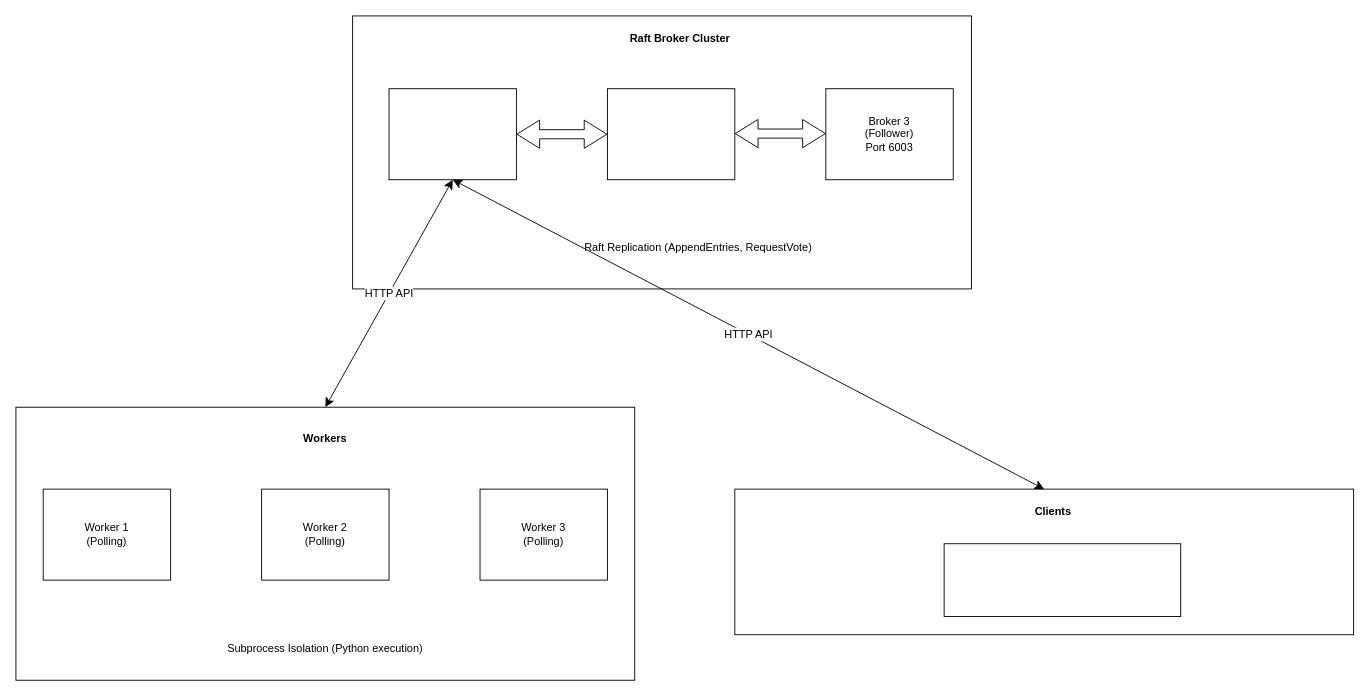
Image size: 1370x696. Some labels were removed from this diagram. The centre of each missing label's shape, as x and y in pixels:
"BatchClient: Submit tasks, poll results" goes at [1062,580].
"Broker 1 (Leader) Port 6001" goes at [452,134].
"Broker 2 (Follower) Port 6002" goes at [671,134].
